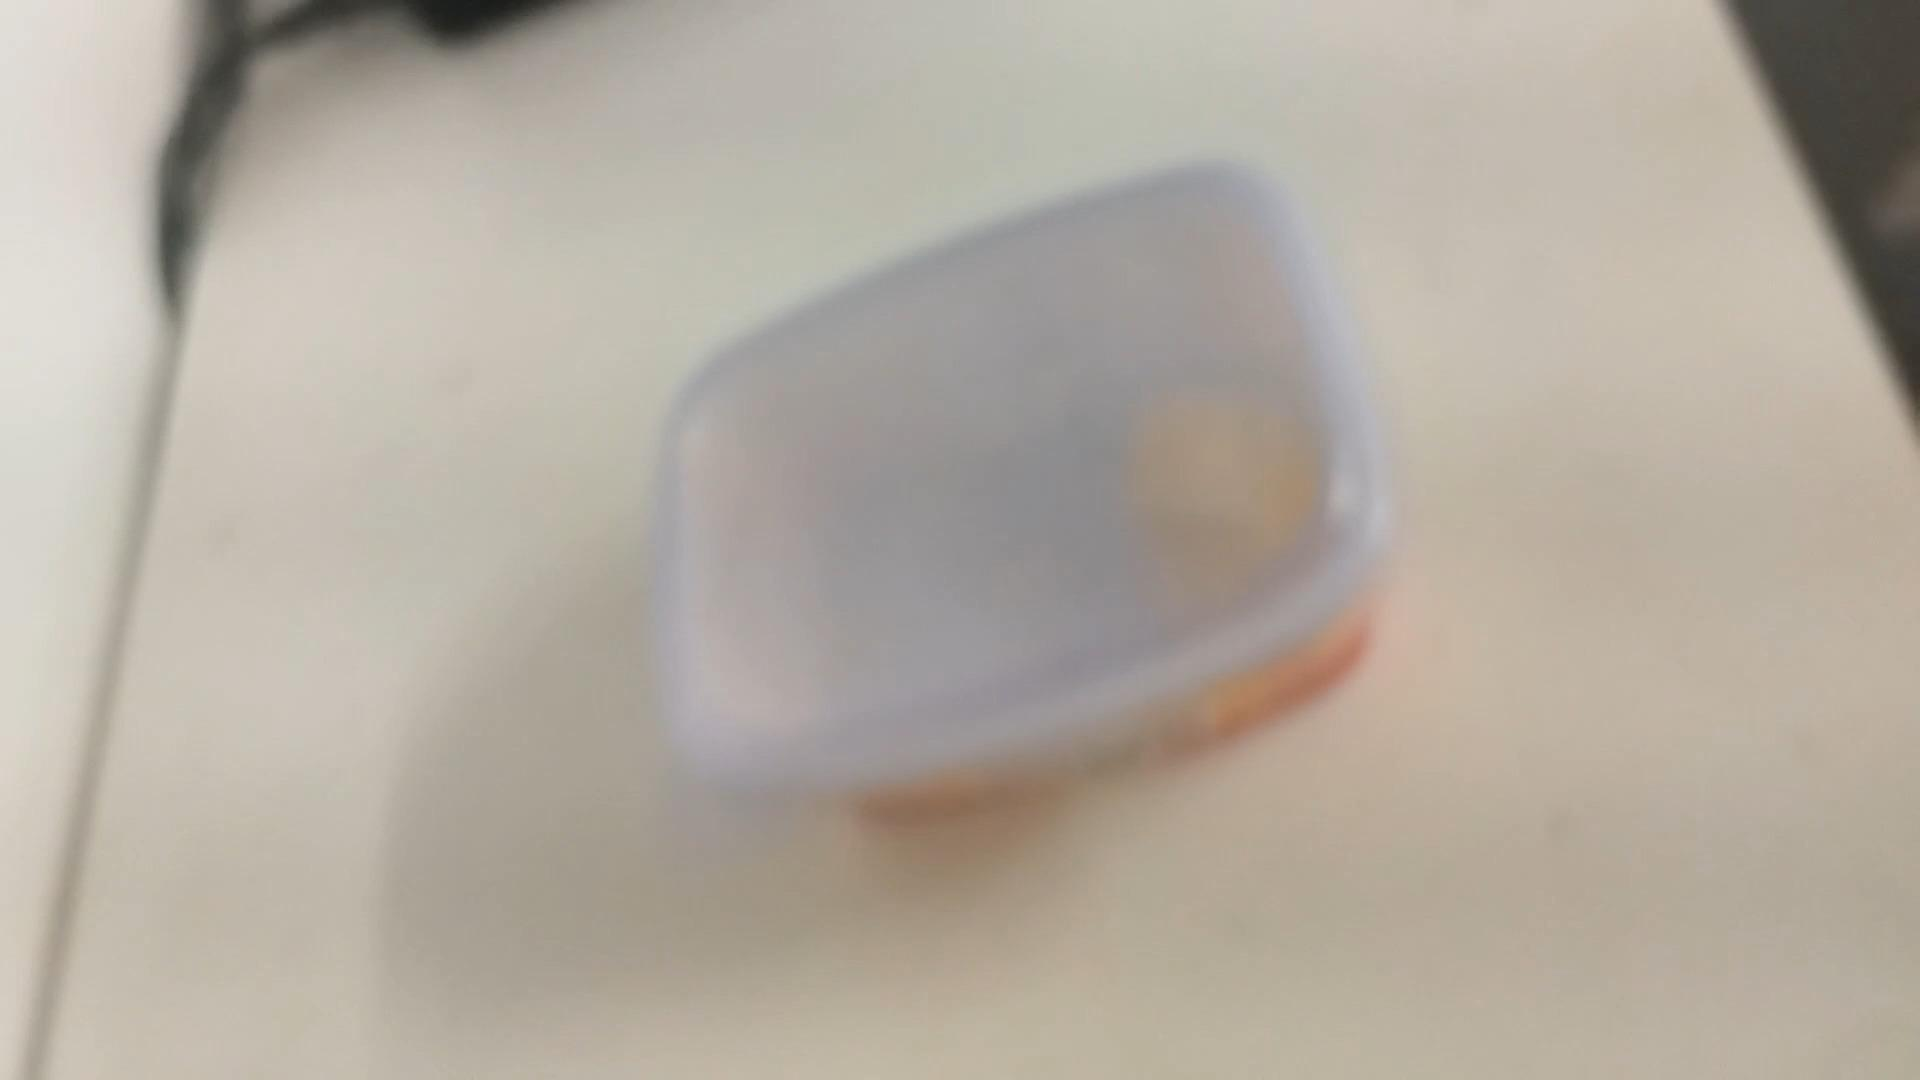butter: (642, 157, 1395, 828)
